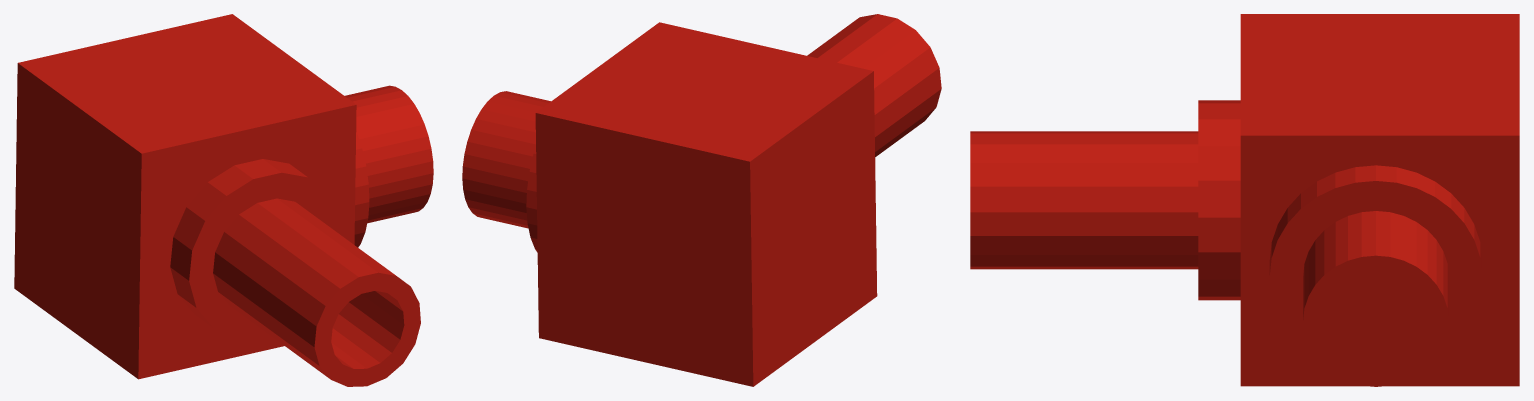
Rendered from assembly_regulator_part_red.dae.
3 views of the same model, side by side, from view 1: azimuth 30°, elevation 25°; view 2: azimuth 150°, elevation 25°; view 3: azimuth 270°, elevation 25° (orthographic). The views are drawn at different scales.
Visible parts, largest first — view 1: Out_Regulator; view 2: Out_Regulator; view 3: Out_Regulator.
Part boxes in pixels (box(x1,y1,x2,y2)): Out_Regulator: box(14, 14, 433, 386); Out_Regulator: box(462, 14, 941, 386); Out_Regulator: box(970, 14, 1519, 386).
Size of the model in its own units: 0.1015 by 0.1327 by 0.0684.
